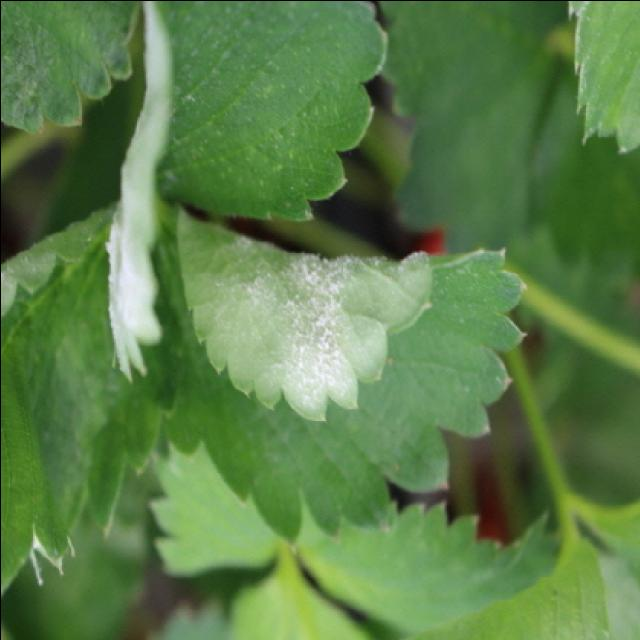Powdery Mildew Leaf: (160, 202, 526, 546), (107, 2, 389, 381), (2, 198, 183, 594)
